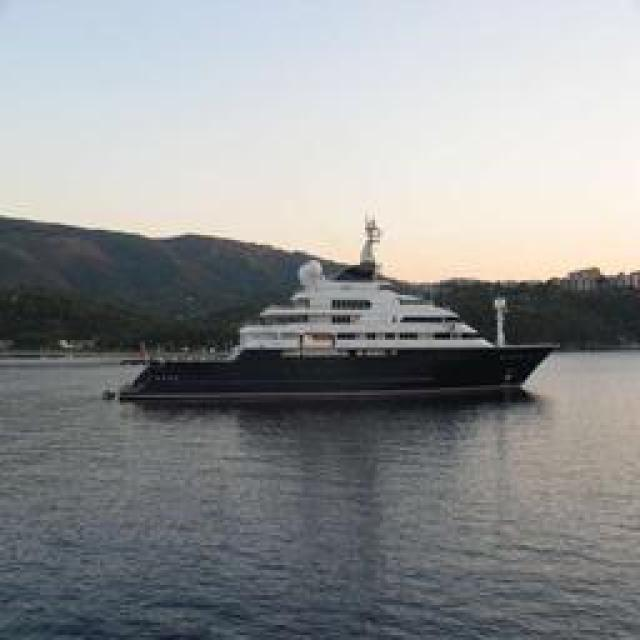ship: (109, 209, 551, 411)
